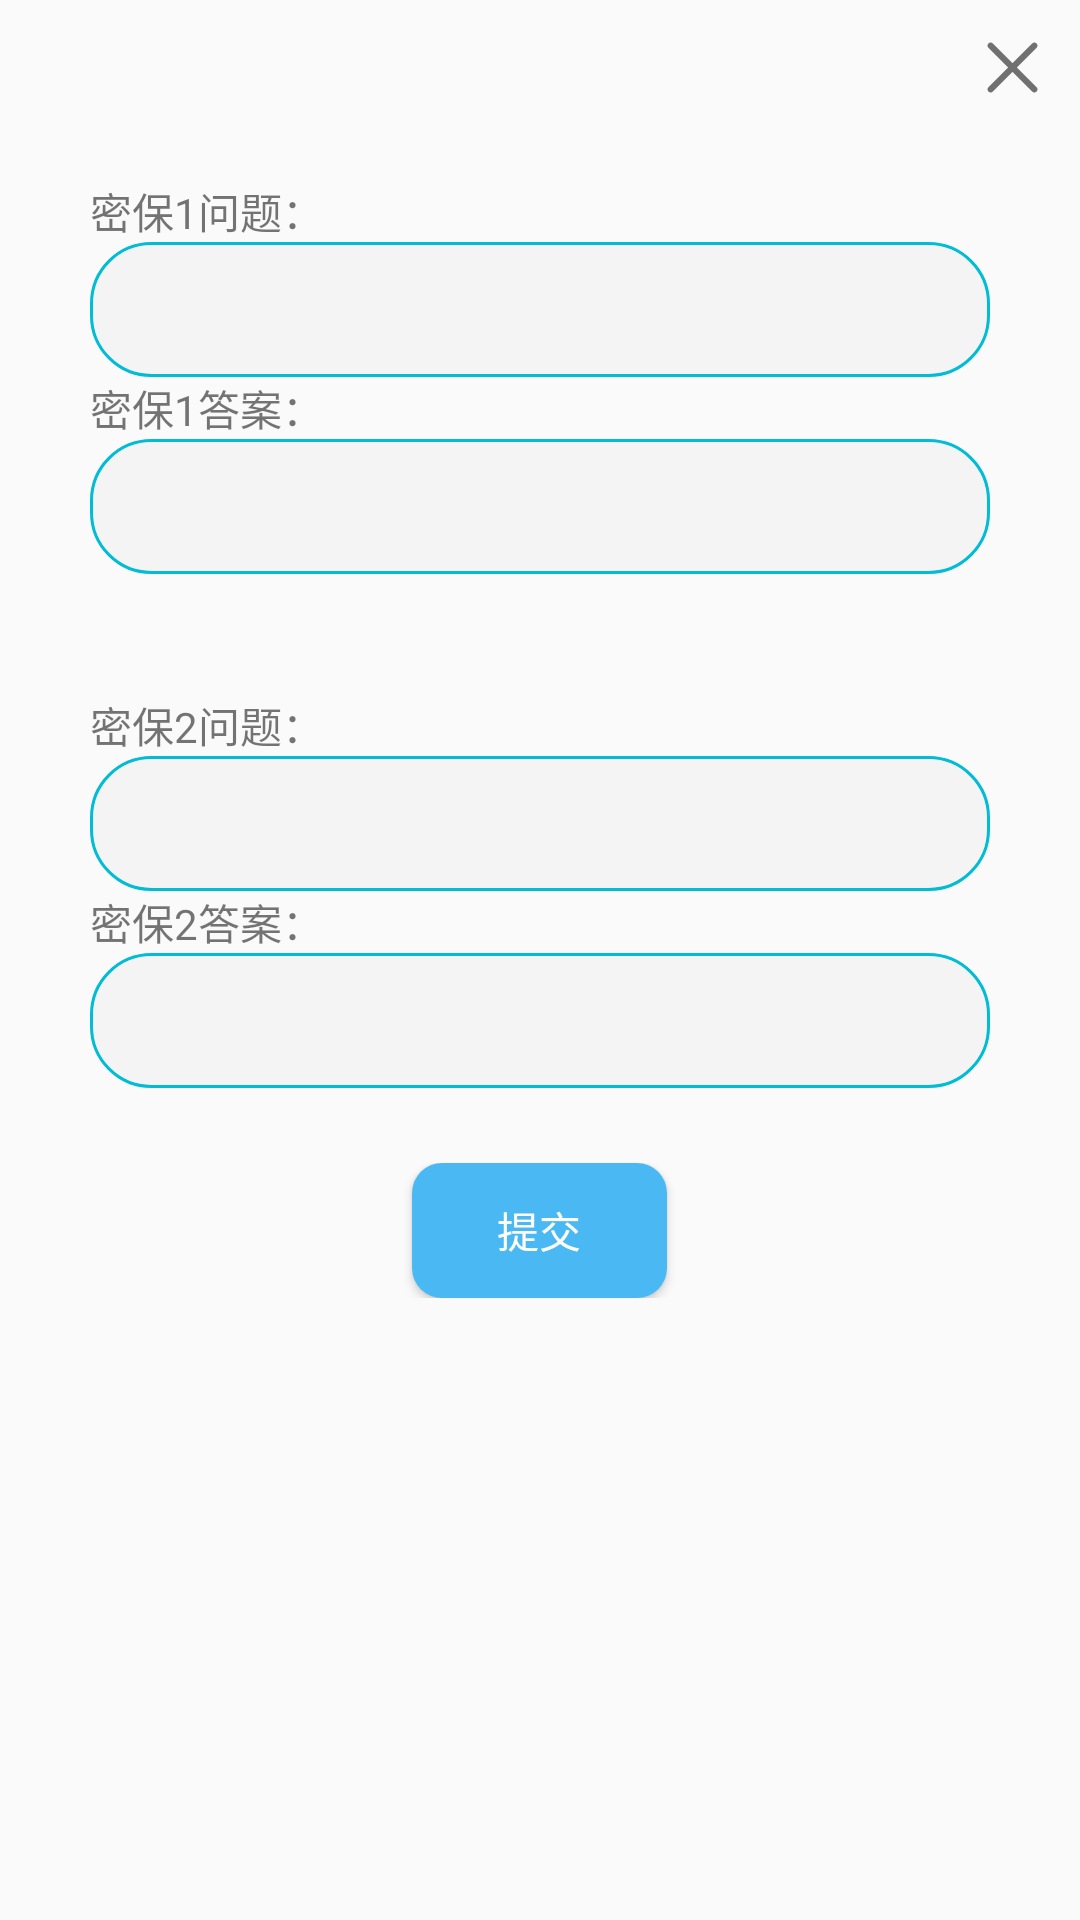

Icon click points for this 1080×1920 phone screenshot, format (x,y):
cha: (1012,67)
